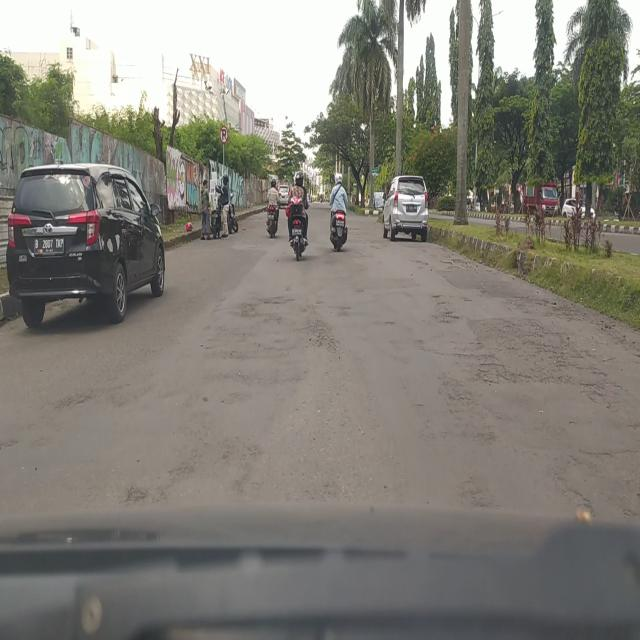Drain Hole: (462, 312, 610, 383), (308, 316, 336, 352)
